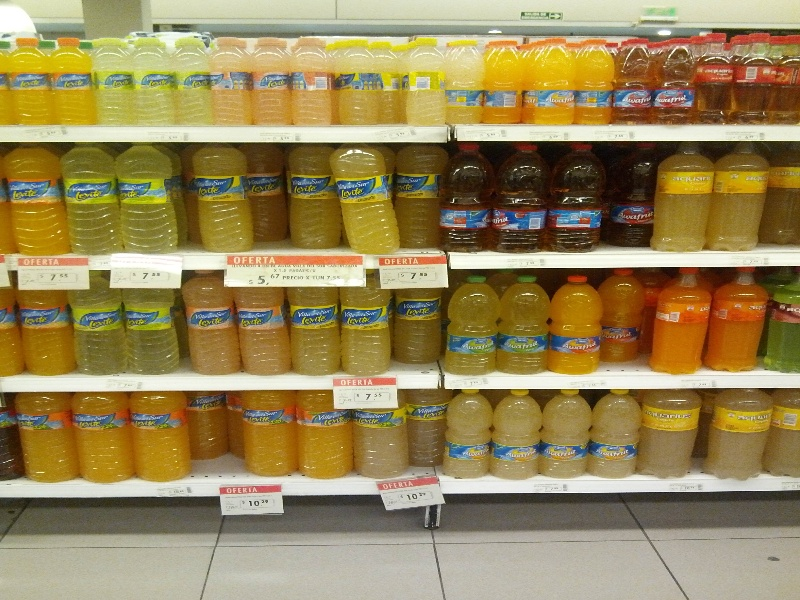lemonade: (190, 143, 258, 255), (648, 143, 714, 255), (493, 141, 559, 253), (648, 269, 716, 374), (335, 147, 401, 255), (711, 142, 776, 250), (701, 267, 767, 373), (62, 142, 126, 250), (119, 146, 182, 251), (181, 269, 240, 374), (551, 143, 606, 249), (496, 274, 549, 374), (445, 274, 498, 374), (548, 275, 602, 373), (490, 389, 546, 479), (587, 389, 644, 477), (441, 388, 491, 479), (50, 37, 99, 126), (542, 389, 589, 480), (405, 40, 454, 127), (695, 32, 737, 127), (536, 40, 580, 128), (661, 30, 698, 125), (292, 38, 331, 128), (736, 30, 772, 122)
